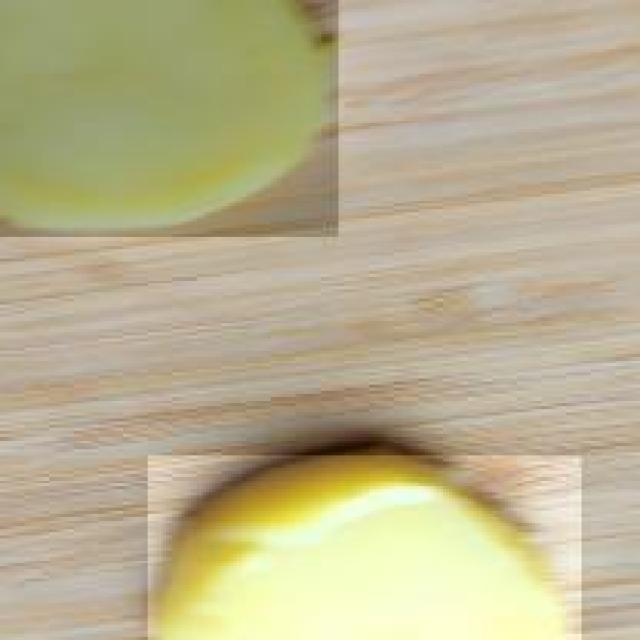butter: (145, 449, 584, 640), (0, 0, 342, 234)
